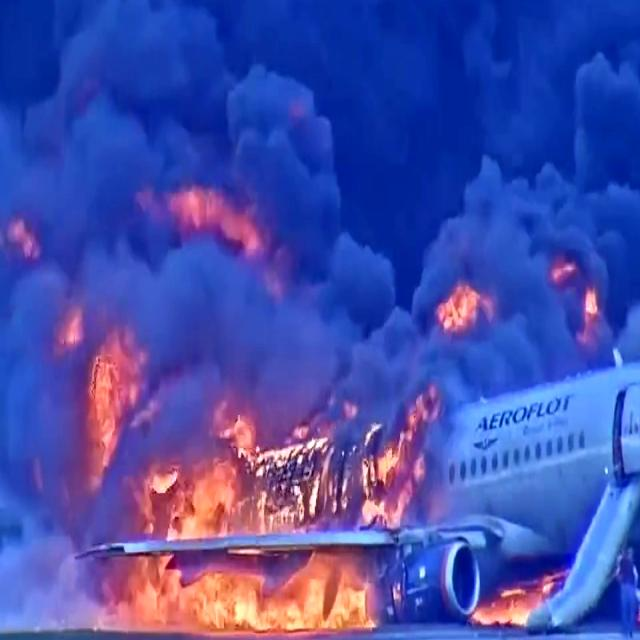fire: (162, 421, 410, 527), (119, 562, 360, 640)
smoke: (49, 0, 389, 329)
